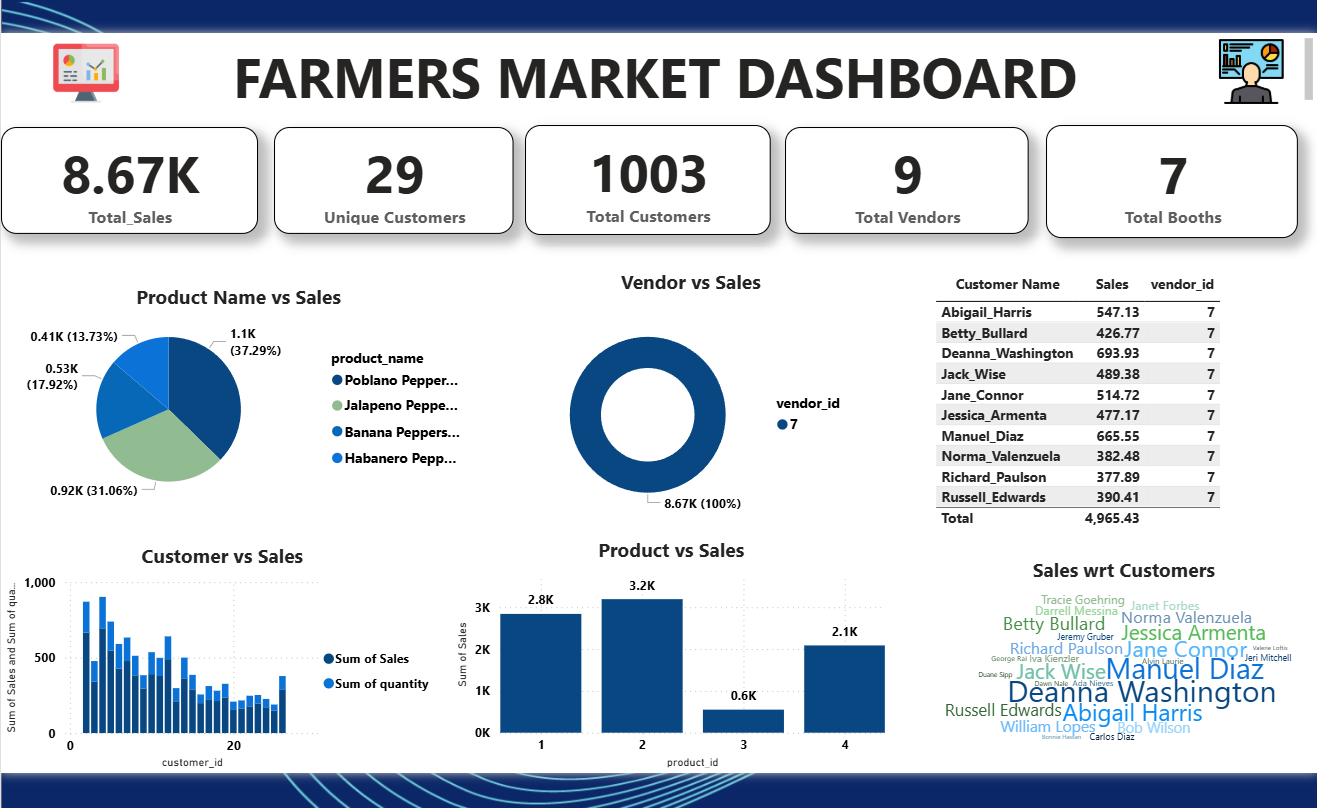

Layout of this report page (visuals, bound fields, positions):
{"tool":"powerbi","page":{"name":"Sales Wise Analysis","canvas":[1280,720],"ordinal":1},"visuals":[{"type":"columnChart","title":"Customer vs Sales","fields":{"Category":["customer_purchases.customer_id"],"Y":["Sum(customer_purchases.Sales)"]},"box":[0,494.9,430.5,224.9],"z":0},{"type":"clusteredColumnChart","title":"Product vs Sales","fields":{"Category":["product.product_id"],"Y":["Sum(customer_purchases.Sales)"]},"box":[438.7,489.5,426.4,230.3],"z":1000},{"type":"pieChart","title":"Product Name vs Sales","fields":{"Category":["product.product_name"],"Y":["Sum(customer_purchases.Sales)"]},"box":[0,242.7,462,220.7],"z":2000},{"type":"donutChart","title":"Vendor vs Sales","fields":{"Category":["customer_purchases.vendor_id"],"Y":["Sum(customer_purchases.Sales)"]},"box":[499.1,229,344.1,260.5],"z":3000},{"type":"textbox","box":[0,0,1280.6,75.4],"z":4000},{"type":"image","box":[1153,0,127.5,75.4],"z":5000},{"type":"image","box":[43.9,0,78.1,78.1],"z":6000},{"type":"card","fields":{"Values":["customer_purchases.Total_Sales"]},"box":[0,91.9,249.5,104.2],"z":7000},{"type":"card","fields":{"Values":["Count(customer_purchases.customer_id)"]},"box":[266,91.9,233.1,104.2],"z":8000},{"type":"card","fields":{"Values":["CountNonNull(customer_purchases.customer_id)"]},"box":[510,89.1,238.6,106.9],"z":9000},{"type":"card","fields":{"Values":["Count(vendor.vendor_id)"]},"box":[762.3,91.9,237.2,104.2],"z":10000},{"type":"card","fields":{"Values":["Count(vendor_booth_assignments.booth_number)"]},"box":[1015.9,89.1,245.4,109.7],"z":11000},{"type":"tableEx","fields":{"Values":["customer.Customer_FUll_Name","Sum(customer_purchases.Sales)","customer_purchases.vendor_id"]},"box":[903.5,229,377,279.7],"z":12000},{"type":"areaChart","title":"Customer Zip vs Sales","fields":{"Category":["customer.customer_zip"],"Y":["Sum(customer_purchases.Sales)"]},"box":[896.7,508.7,383.9,211.1],"z":13000}]}

Visuals, with their boxes on the page's 1280x720 design canvas (x1, y1, x2, y2). These are canvas units, not pixel positions in the 1317x808 screenshot, which may show the page scaled, cropped or inside an application window:
"Customer vs Sales" columnChart: (x1=0, y1=495, x2=430, y2=720)
"Product vs Sales" clusteredColumnChart: (x1=439, y1=490, x2=865, y2=720)
"Product Name vs Sales" pieChart: (x1=0, y1=243, x2=462, y2=463)
"Vendor vs Sales" donutChart: (x1=499, y1=229, x2=843, y2=490)
textbox: (x1=0, y1=0, x2=1281, y2=75)
image: (x1=1153, y1=0, x2=1280, y2=75)
image: (x1=44, y1=0, x2=122, y2=78)
card - customer_purchases.Total_Sales: (x1=0, y1=92, x2=250, y2=196)
card - Count(customer_purchases.customer_id): (x1=266, y1=92, x2=499, y2=196)
card - CountNonNull(customer_purchases.customer_id): (x1=510, y1=89, x2=749, y2=196)
card - Count(vendor.vendor_id): (x1=762, y1=92, x2=1000, y2=196)
card - Count(vendor_booth_assignments.booth_number): (x1=1016, y1=89, x2=1261, y2=199)
tableEx - customer.Customer_FUll_Name x Sum(customer_purchases.Sales): (x1=904, y1=229, x2=1280, y2=509)
"Customer Zip vs Sales" areaChart: (x1=897, y1=509, x2=1281, y2=720)
